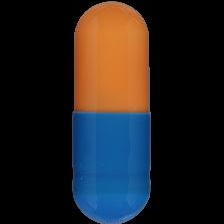0054-0163: (0, 0, 224, 224)
